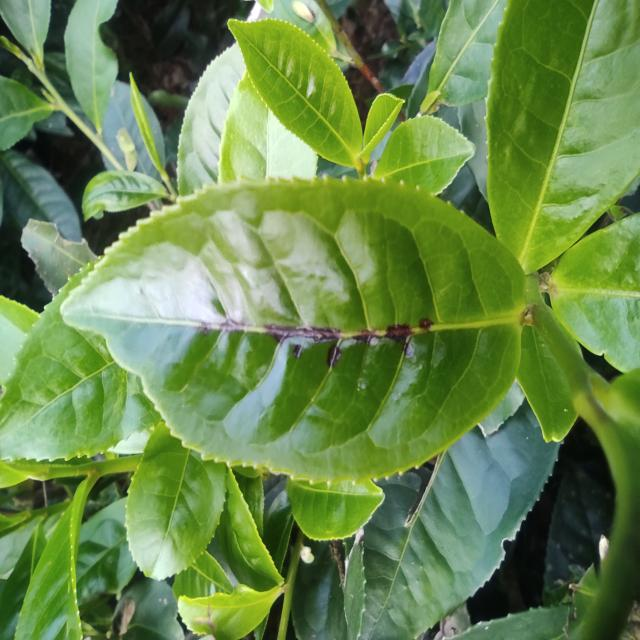Category C(4-7 days): (41, 134, 544, 516)
